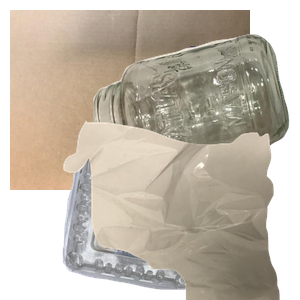cardboard: (10, 10, 250, 190)
glass: (91, 32, 300, 189)
plastic: (60, 141, 263, 300)
trash: (61, 120, 300, 300)
